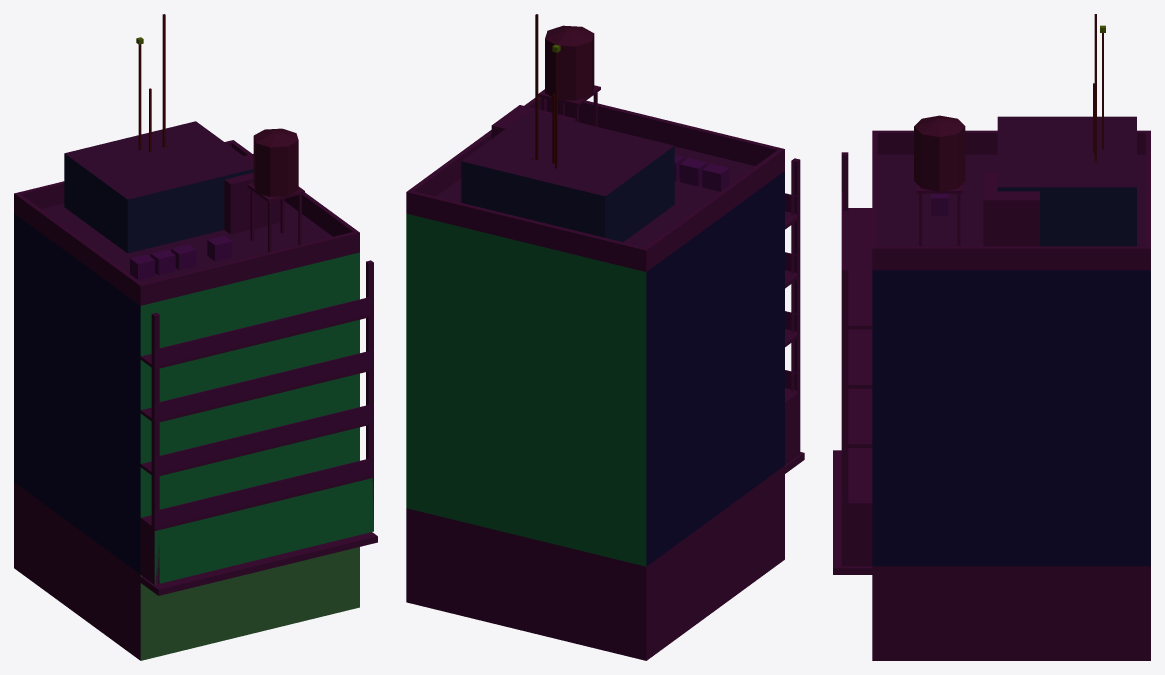
The model's file is walkup_c.lod1.glb.
The picture shows the model from 3 angles, left to right: view 1: azimuth 30°, elevation 25°; view 2: azimuth 150°, elevation 25°; view 3: azimuth 270°, elevation 25°; orthographic projection. The views are drawn at different scales.
Parts seen in each view (by area): view 1: walkup_c.lod1; view 2: walkup_c.lod1; view 3: walkup_c.lod1.
Part boxes in pixels (x1,y1,x2,y2): walkup_c.lod1: [14, 14, 377, 660]; walkup_c.lod1: [406, 14, 804, 660]; walkup_c.lod1: [833, 14, 1150, 660].
Size of the model in its own units: 12.8 by 30.19 by 14.6.
